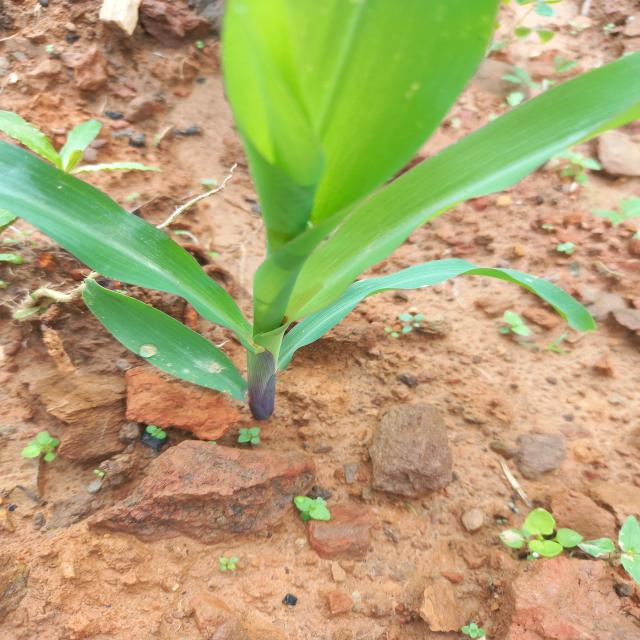maize: (0, 0, 627, 459)
weed: (0, 104, 164, 189), (466, 0, 586, 89), (489, 498, 596, 557), (589, 502, 640, 588), (278, 476, 356, 530), (548, 136, 611, 194), (573, 189, 640, 232), (20, 427, 77, 466), (499, 304, 545, 348), (382, 299, 439, 328), (130, 418, 190, 440), (212, 554, 254, 576), (462, 620, 496, 640), (233, 429, 280, 439)
